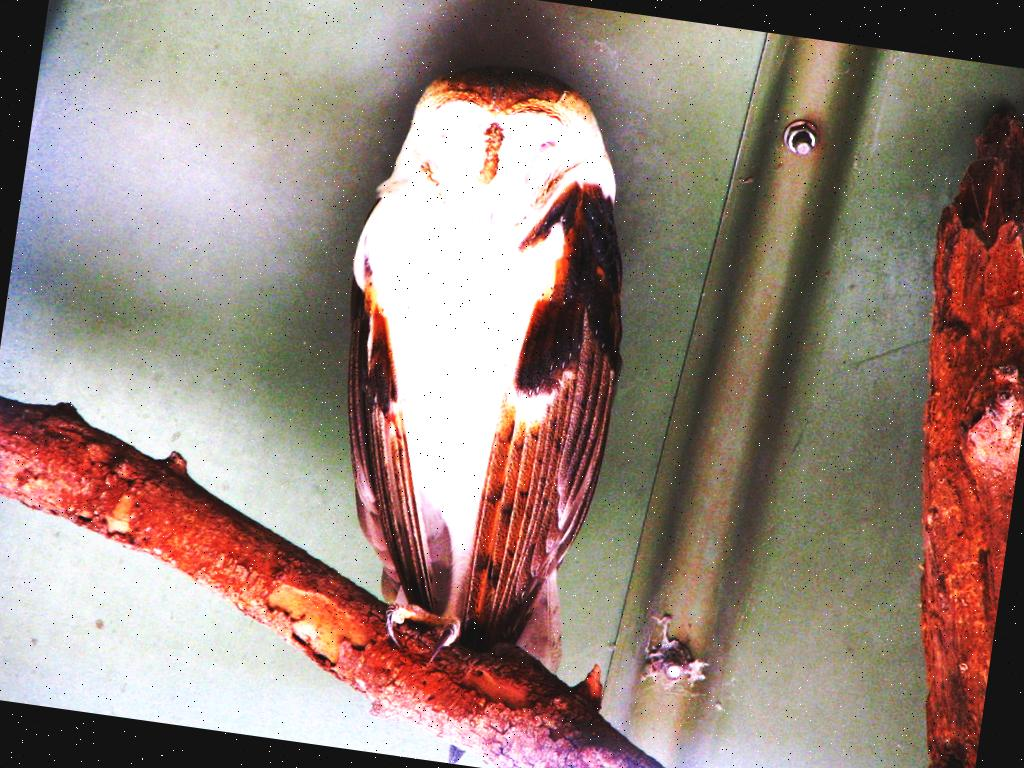Owl: (275, 46, 664, 768)
